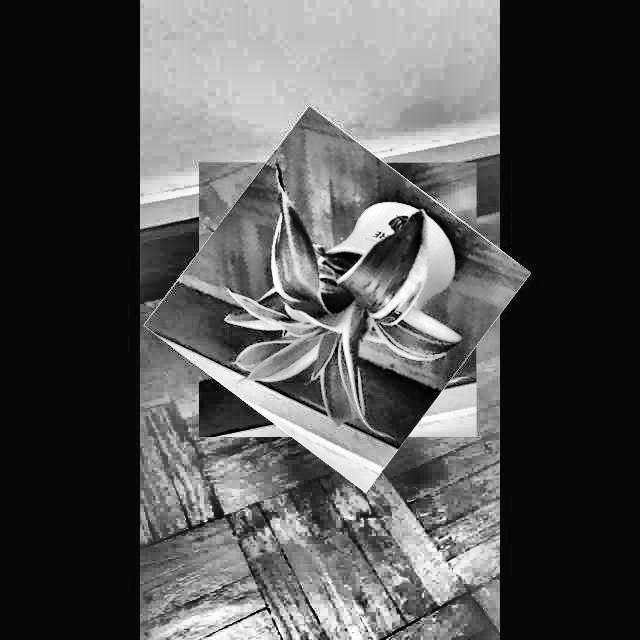plants: (171, 134, 504, 465)
